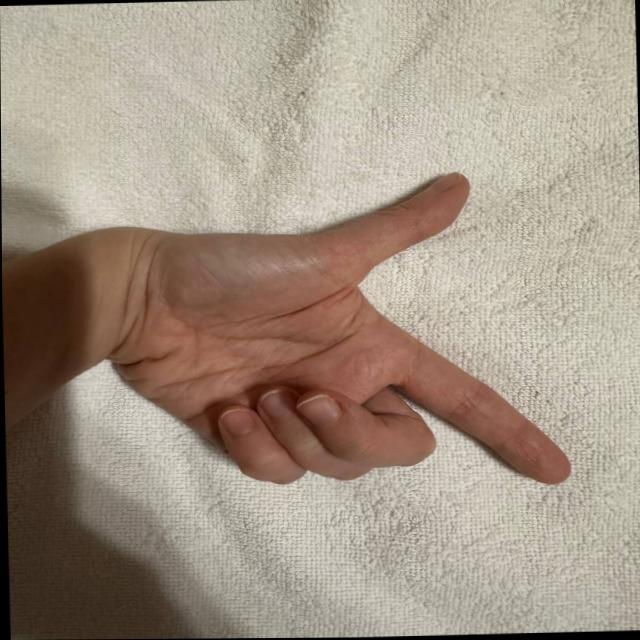g: (101, 177, 577, 503)
